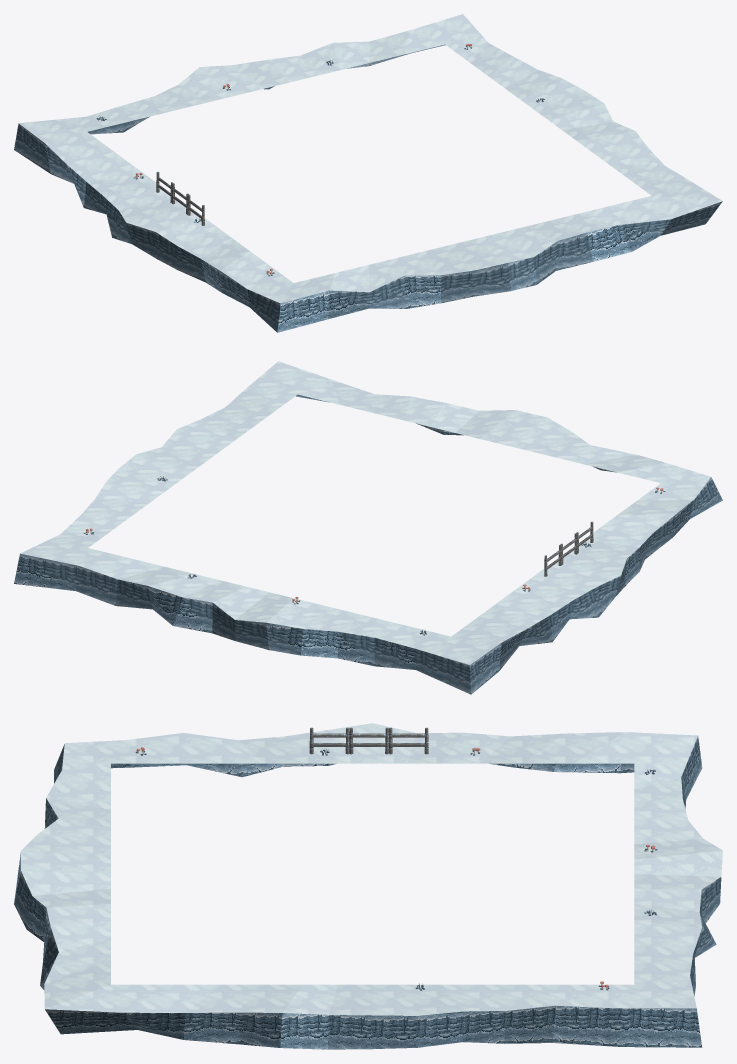
File: entorno.glb
3 views of the same model, one above another, from view 1: azimuth 30°, elevation 25°; view 2: azimuth 150°, elevation 25°; view 3: azimuth 270°, elevation 25° (orthographic). The views are drawn at different scales.
Visible parts, largest first — view 1: neve_entorno; view 2: neve_entorno; view 3: neve_entorno.
Boxes of the visible parts, <box> form: neve_entorno: <box>14,14,722,332</box>; neve_entorno: <box>14,361,722,694</box>; neve_entorno: <box>14,723,722,1049</box>.
Bounding box in the file's own units: 16.31 × 1.69 × 16.52.
7 materials, 5 textured.
